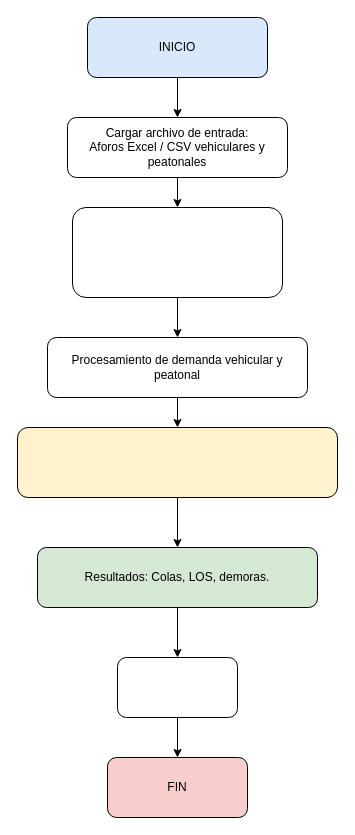
Some shapes in this 355 by 835 pixel diagram are drawn without their labels. Each missing label, with the box of its shape:
Cálculo de grado de saturación, relacion v/c y ciclo semafórico: (16, 426, 338, 498)
Exportar resultados: excel, csv y gráficos: (116, 656, 238, 718)
Validación de datos: -Volumenes -Carriles -Giros -Horario: (72, 206, 282, 298)
